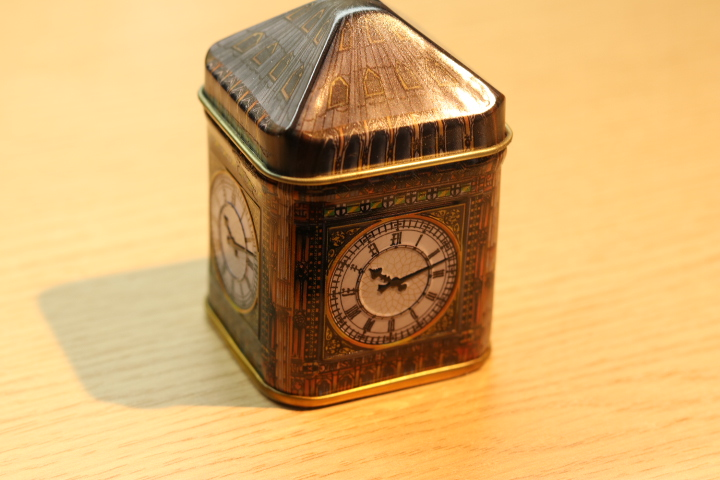Big Ben: (178, 1, 531, 426)
